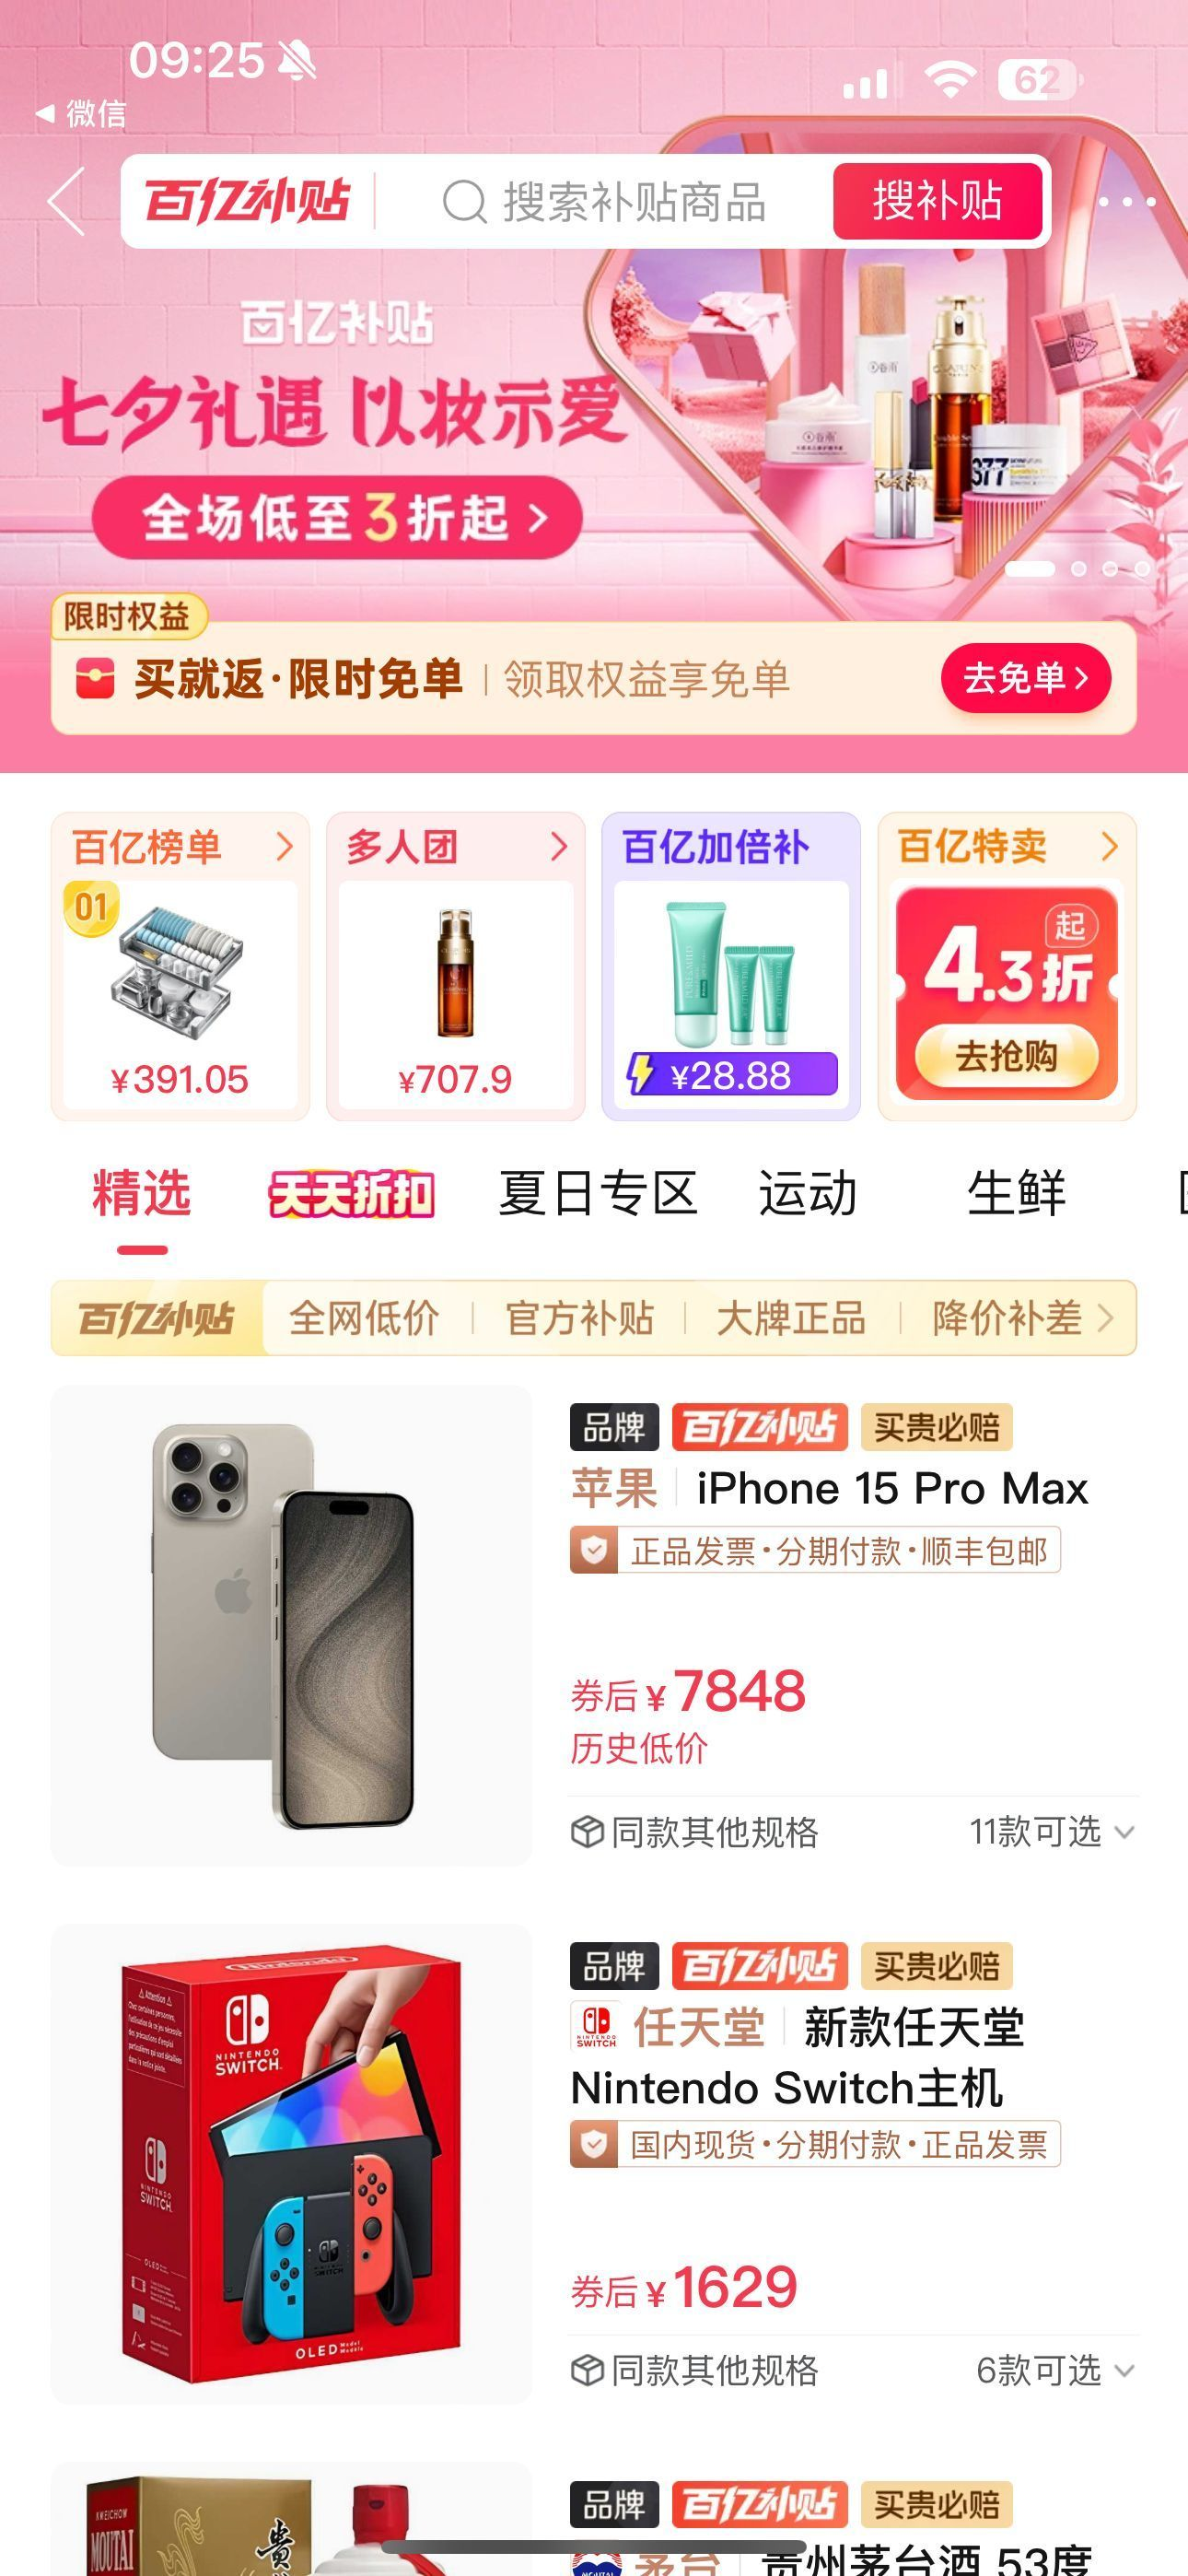banner: (25, 578, 1165, 746)
item: (16, 1373, 1176, 1912), (12, 1922, 1178, 2446)
op_bar: (2, 125, 1178, 269)
seckill: (36, 784, 1172, 1275)
